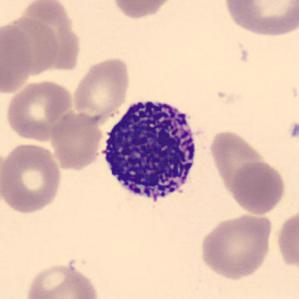Basophil: (93, 90, 204, 216)
Platelets: (286, 118, 299, 144)
RBC: (208, 127, 274, 208), (197, 212, 275, 280), (12, 0, 82, 72), (0, 141, 64, 215), (4, 78, 75, 143), (71, 54, 132, 123), (48, 109, 105, 172), (230, 159, 288, 216), (22, 260, 102, 299), (221, 0, 298, 39), (0, 19, 34, 95), (275, 206, 298, 274), (108, 0, 178, 21)
